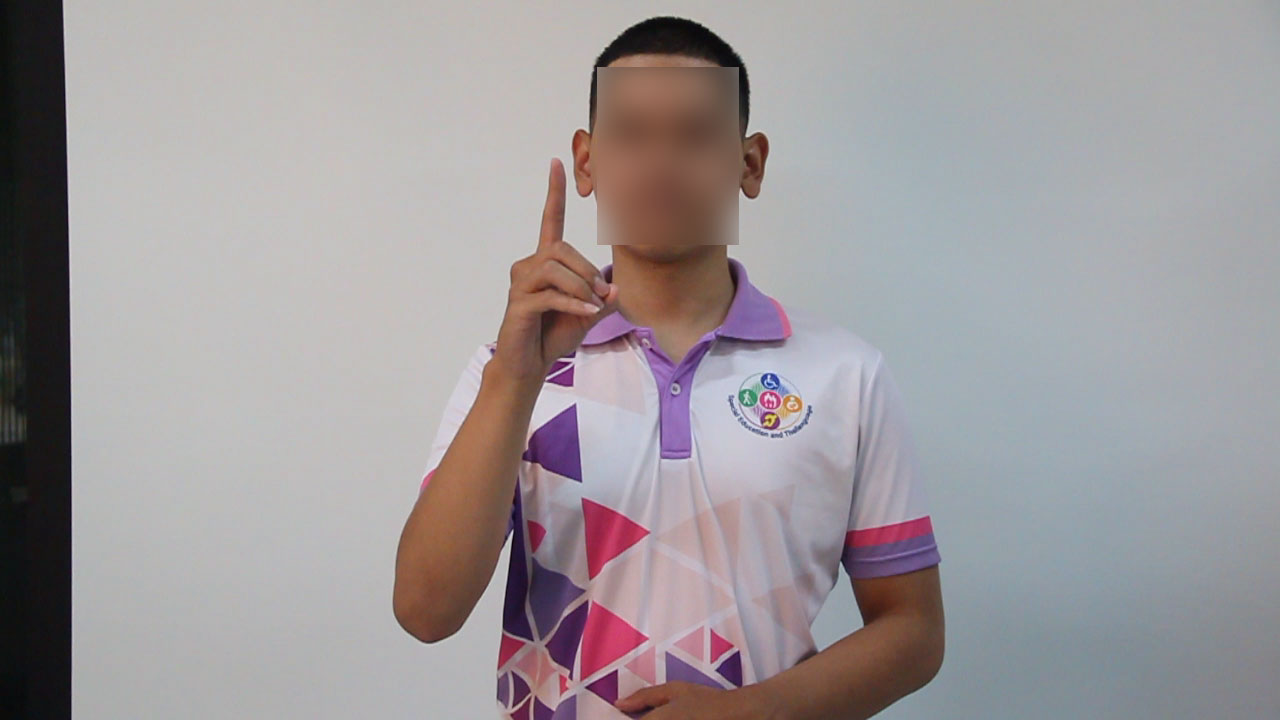dor: (477, 151, 626, 378)
